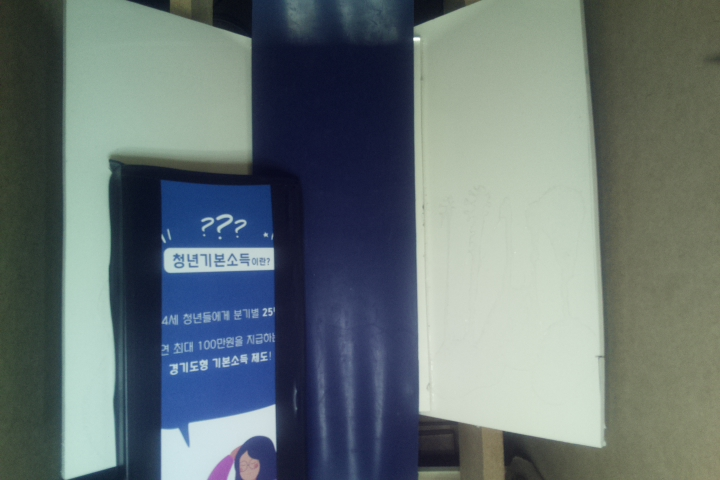book: (108, 166, 302, 480)
